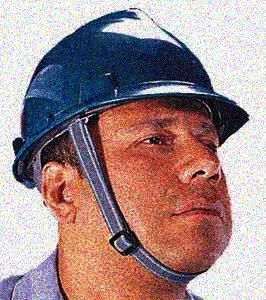helmet: (12, 8, 249, 271)
